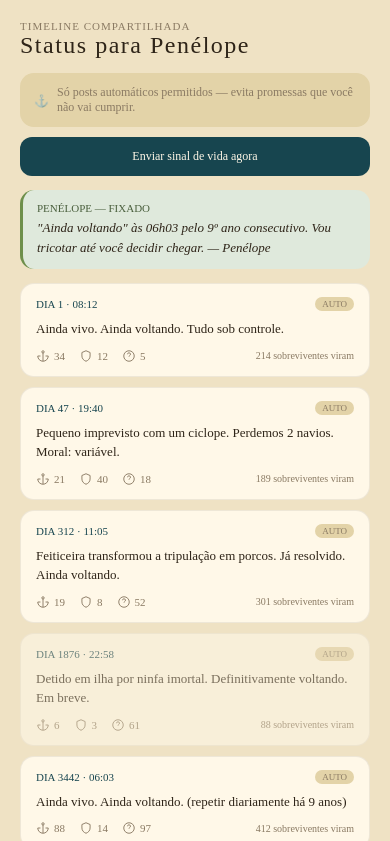
it: PenelopeScreen › tocar "Enviar sinal de vida agora" adiciona um post no topo da lista
Click the button labelled "Enviar sinal de vida agora" at (195, 156), box [20,137,370,176]
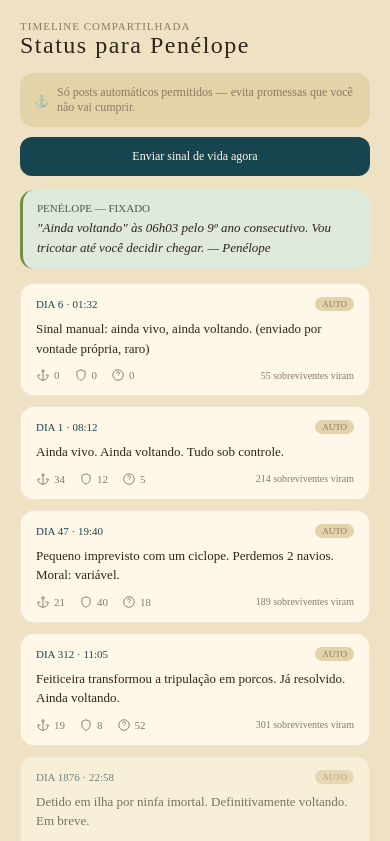
Result: the text "Sinal manual: ainda vivo, ainda voltando. (enviado por vontade própria, raro)" is shown at [36,319,354,358]
